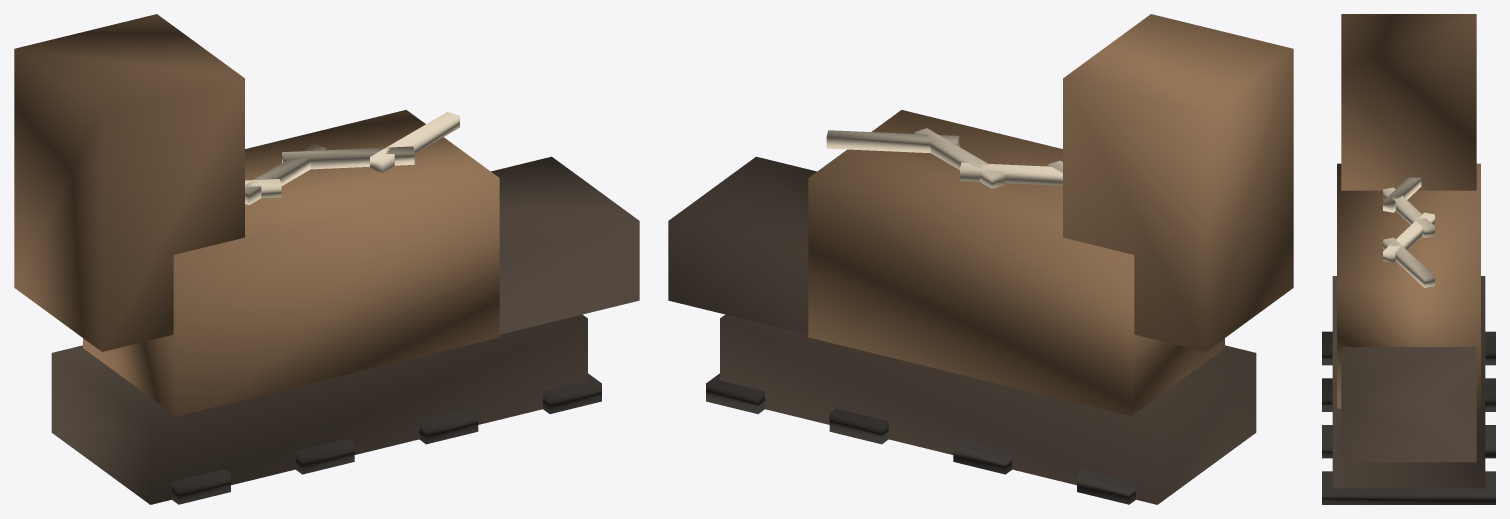
The model's file is hiking_boot.glb.
3 renders of one model, left to right at view 1: azimuth 30°, elevation 25°; view 2: azimuth 150°, elevation 25°; view 3: azimuth 270°, elevation 25°, orthographic. The views are drawn at different scales.
Visible parts, largest first — view 1: hiking_boot; view 2: hiking_boot; view 3: hiking_boot.
Part boxes in pixels (x1,y1,x2,y2): hiking_boot: (14,14,639,504); hiking_boot: (668,14,1293,504); hiking_boot: (1322,14,1495,504).
Bounding box in the file's own units: 0.565 × 0.4 × 0.205.
